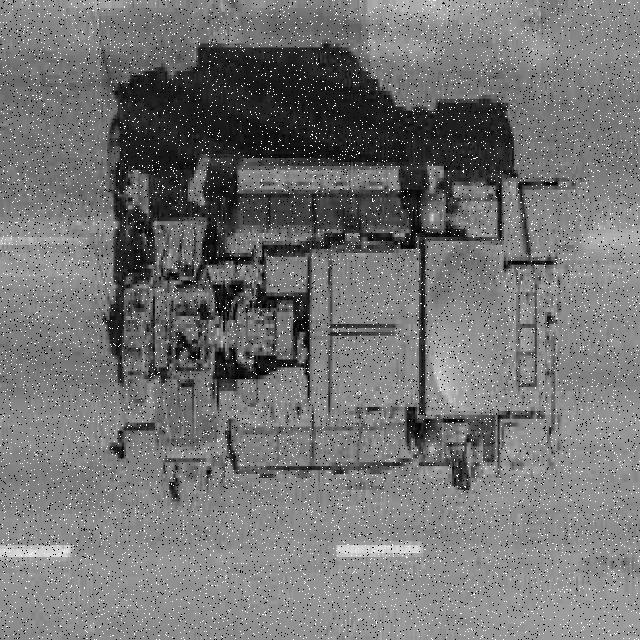MIL_MBT: (107, 99, 561, 490)
